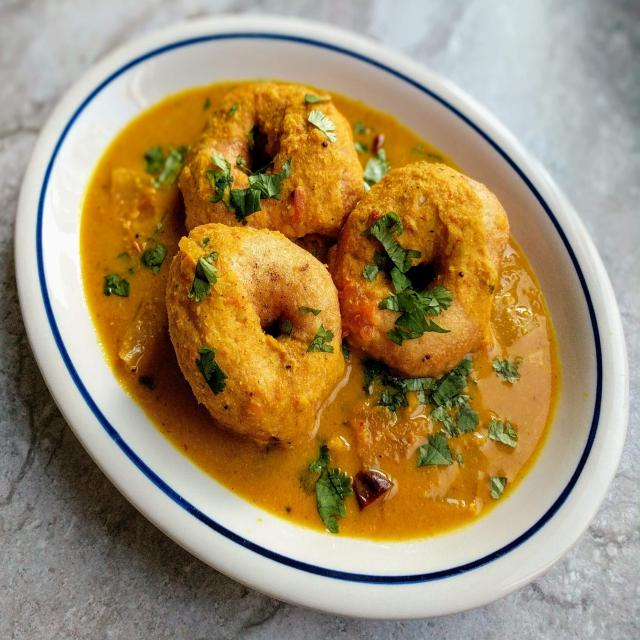VADA: (76, 77, 562, 545)
